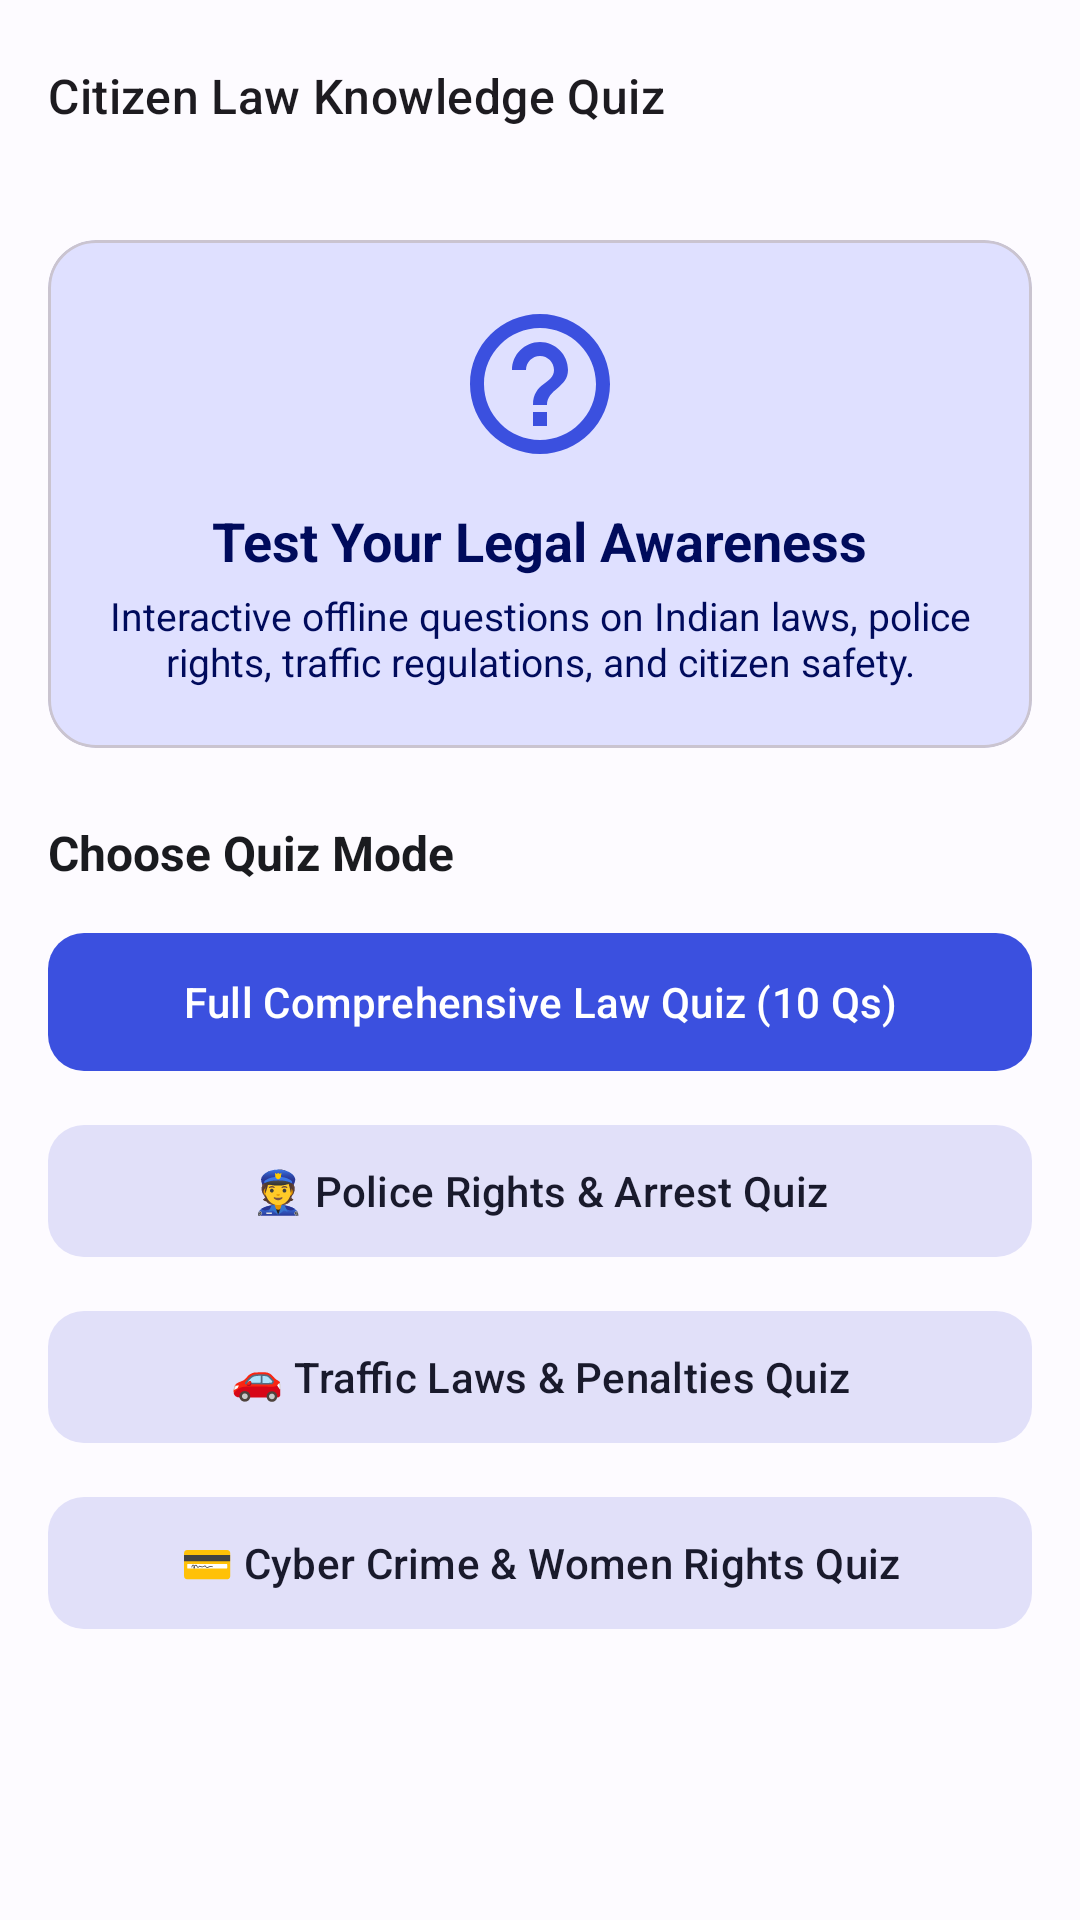

Locate icon controls on the screen. Image size 1080 × 1920, boxes as (x1, y1, x2, y2).
quiz: (470, 314, 610, 454)
